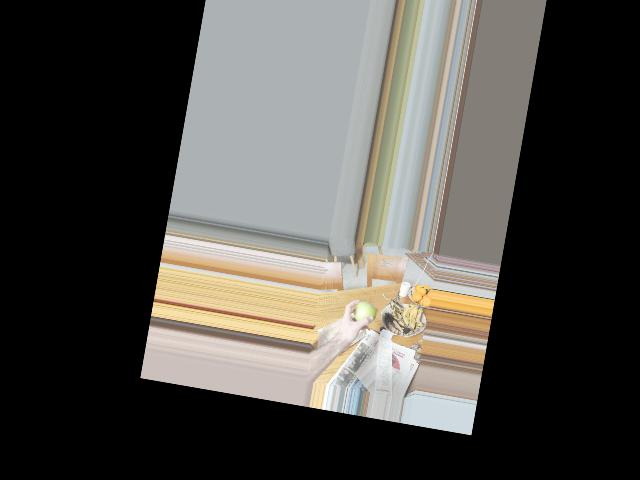apple: (352, 299, 377, 327)
